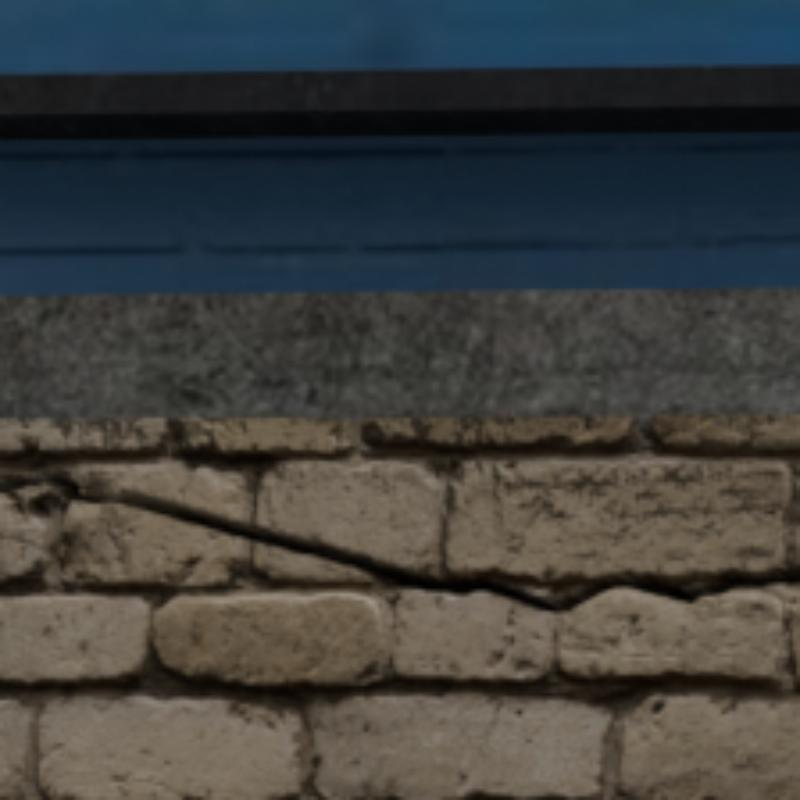pothole: (0, 471, 796, 611)
